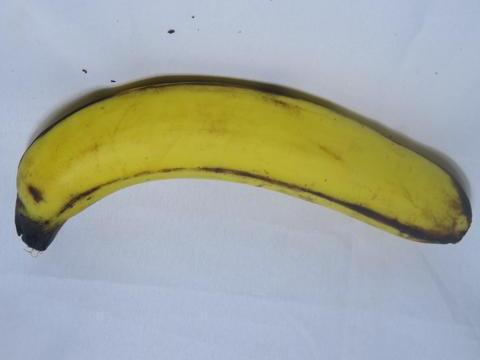ripe: (10, 65, 479, 268)
